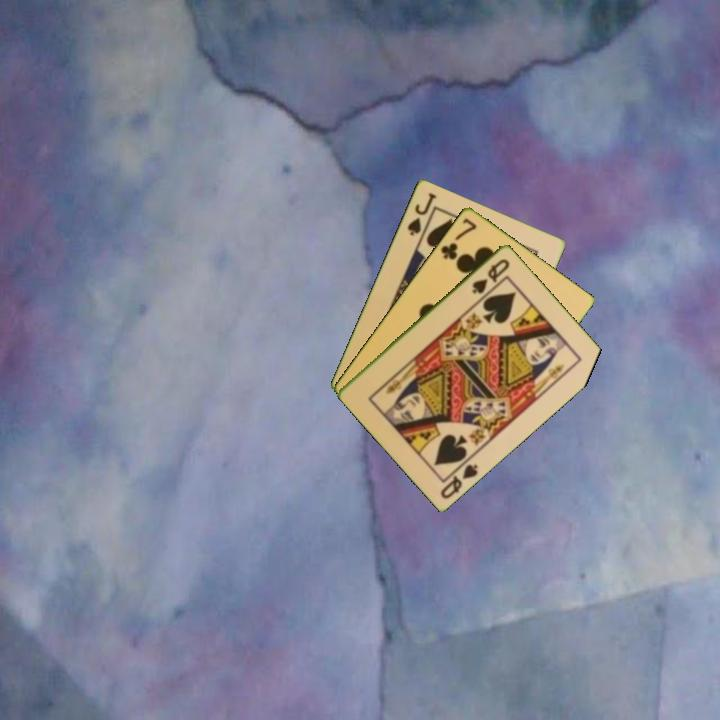7c: (437, 214, 479, 262)
Js: (404, 189, 439, 238)
Qs: (437, 454, 481, 501), (468, 255, 512, 297)
